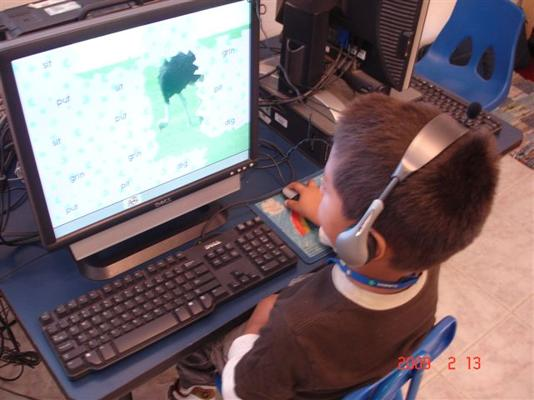person: (220, 93, 501, 400)
